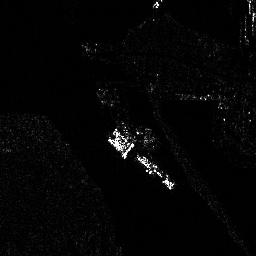ship: (136, 154, 176, 191)
